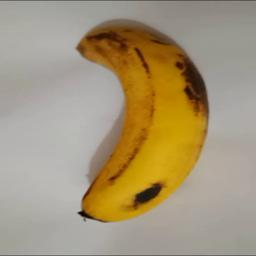Banana Unripe: (66, 29, 212, 225)
